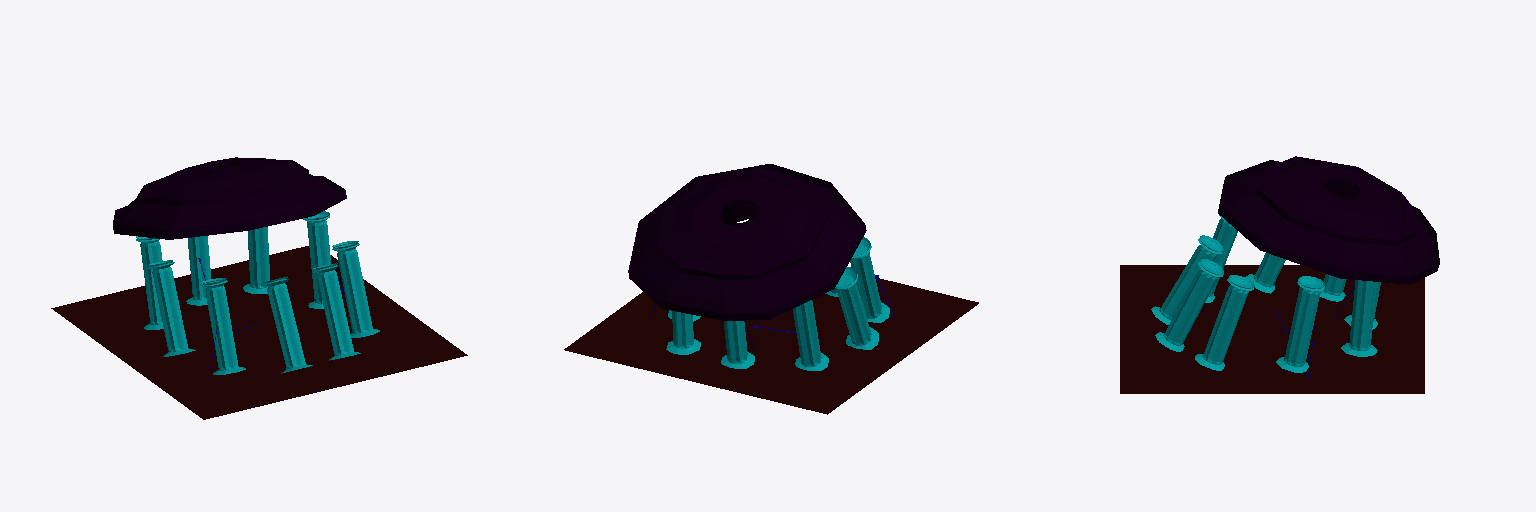
Rendered from Spearyard1d.obj.
The picture shows the model from 3 angles: view 1: azimuth 30°, elevation 25°; view 2: azimuth 150°, elevation 25°; view 3: azimuth 270°, elevation 25°; orthographic projection.
Visible parts, largest first — view 1: Plane, Plane.012_Plane.013, Plane.005_Plane.016, Plane.001_Plane.012, Plane.002, Plane.004_Plane.015, Plane.003_Plane.014, Plane.006_Plane.017, Plane.007_Plane.018, Plane.009_Plane.020, Plane.008_Plane.019; view 2: Plane.012_Plane.013, Plane, Plane.002, Plane.001_Plane.012, Plane.009_Plane.020, Plane.008_Plane.019, Plane.007_Plane.018; view 3: Plane, Plane.012_Plane.013, Plane.006_Plane.017, Plane.004_Plane.015, Plane.005_Plane.016, Plane.007_Plane.018, Plane.003_Plane.014, Plane.002, Plane.001_Plane.012.
Part boxes in pixels (x1,y1,x2,y2): Plane: (51,246,467,419); Plane.012_Plane.013: (113,157,346,239); Plane.005_Plane.016: (332,241,379,337); Plane.001_Plane.012: (201,278,245,374); Plane.002: (147,260,195,356); Plane.004_Plane.015: (312,263,360,360); Plane.003_Plane.014: (262,276,312,373); Plane.006_Plane.017: (303,211,330,308); Plane.007_Plane.018: (243,227,269,293); Plane.009_Plane.020: (136,236,163,329); Plane.008_Plane.019: (186,236,210,305); Plane.012_Plane.013: (628,164,866,320); Plane: (564,278,978,414); Plane.002: (835,267,878,349); Plane.001_Plane.012: (850,237,889,322); Plane.009_Plane.020: (793,300,828,370); Plane.008_Plane.019: (721,321,754,368); Plane.007_Plane.018: (666,311,700,354); Plane: (1120,265,1424,393); Plane.012_Plane.013: (1218,156,1439,284); Plane.006_Plane.017: (1276,276,1324,372); Plane.004_Plane.015: (1155,259,1223,351); Plane.005_Plane.016: (1195,275,1254,370); Plane.007_Plane.018: (1341,280,1377,356); Plane.003_Plane.014: (1151,235,1223,324); Plane.002: (1245,253,1285,293); Plane.001_Plane.012: (1205,215,1237,302).
Bounding box in the file's own units: 6.02 × 3.35 × 6.32.